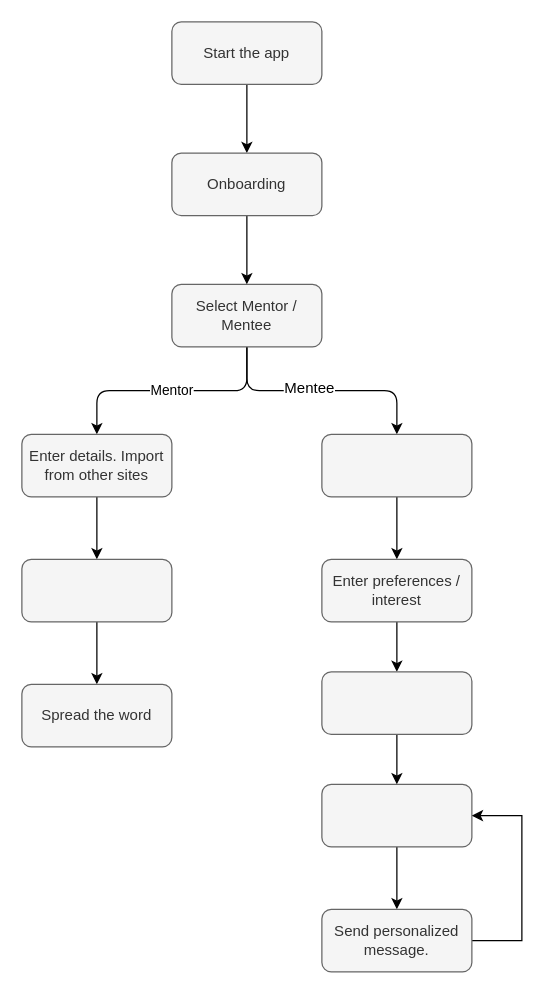
Image size: 554x994. Some labels were removed from this diagram. The centre of each missing label's shape, as x and y in pixels:
Enter details, import from other sites: (396,465)
Select commitment level: (96,590)
Shortlist mentors: (396,815)
Use search: (396,702)
